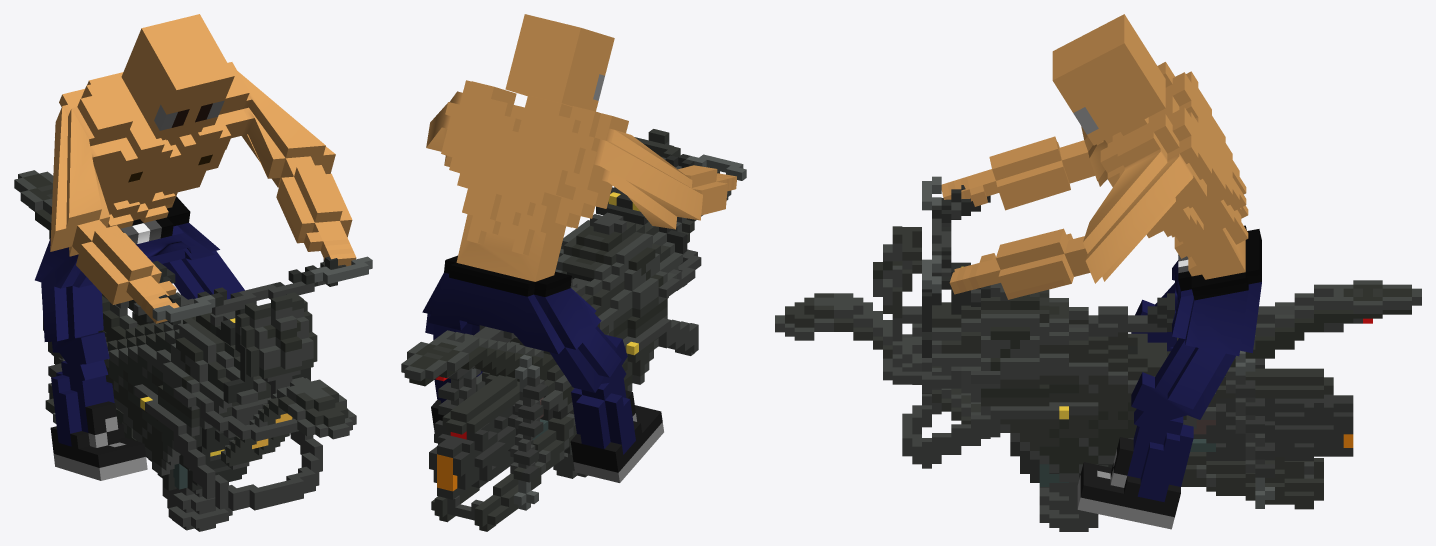
Rendered from OnCross.obj.
3 views of the same model, side by side, from view 1: azimuth 30°, elevation 25°; view 2: azimuth 150°, elevation 25°; view 3: azimuth 270°, elevation 25° (orthographic). The views are drawn at different scales.
Bounding box in the file's own units: 4.86 × 7.9 × 9.36.
Materials: 2 (2 with a texture image).
